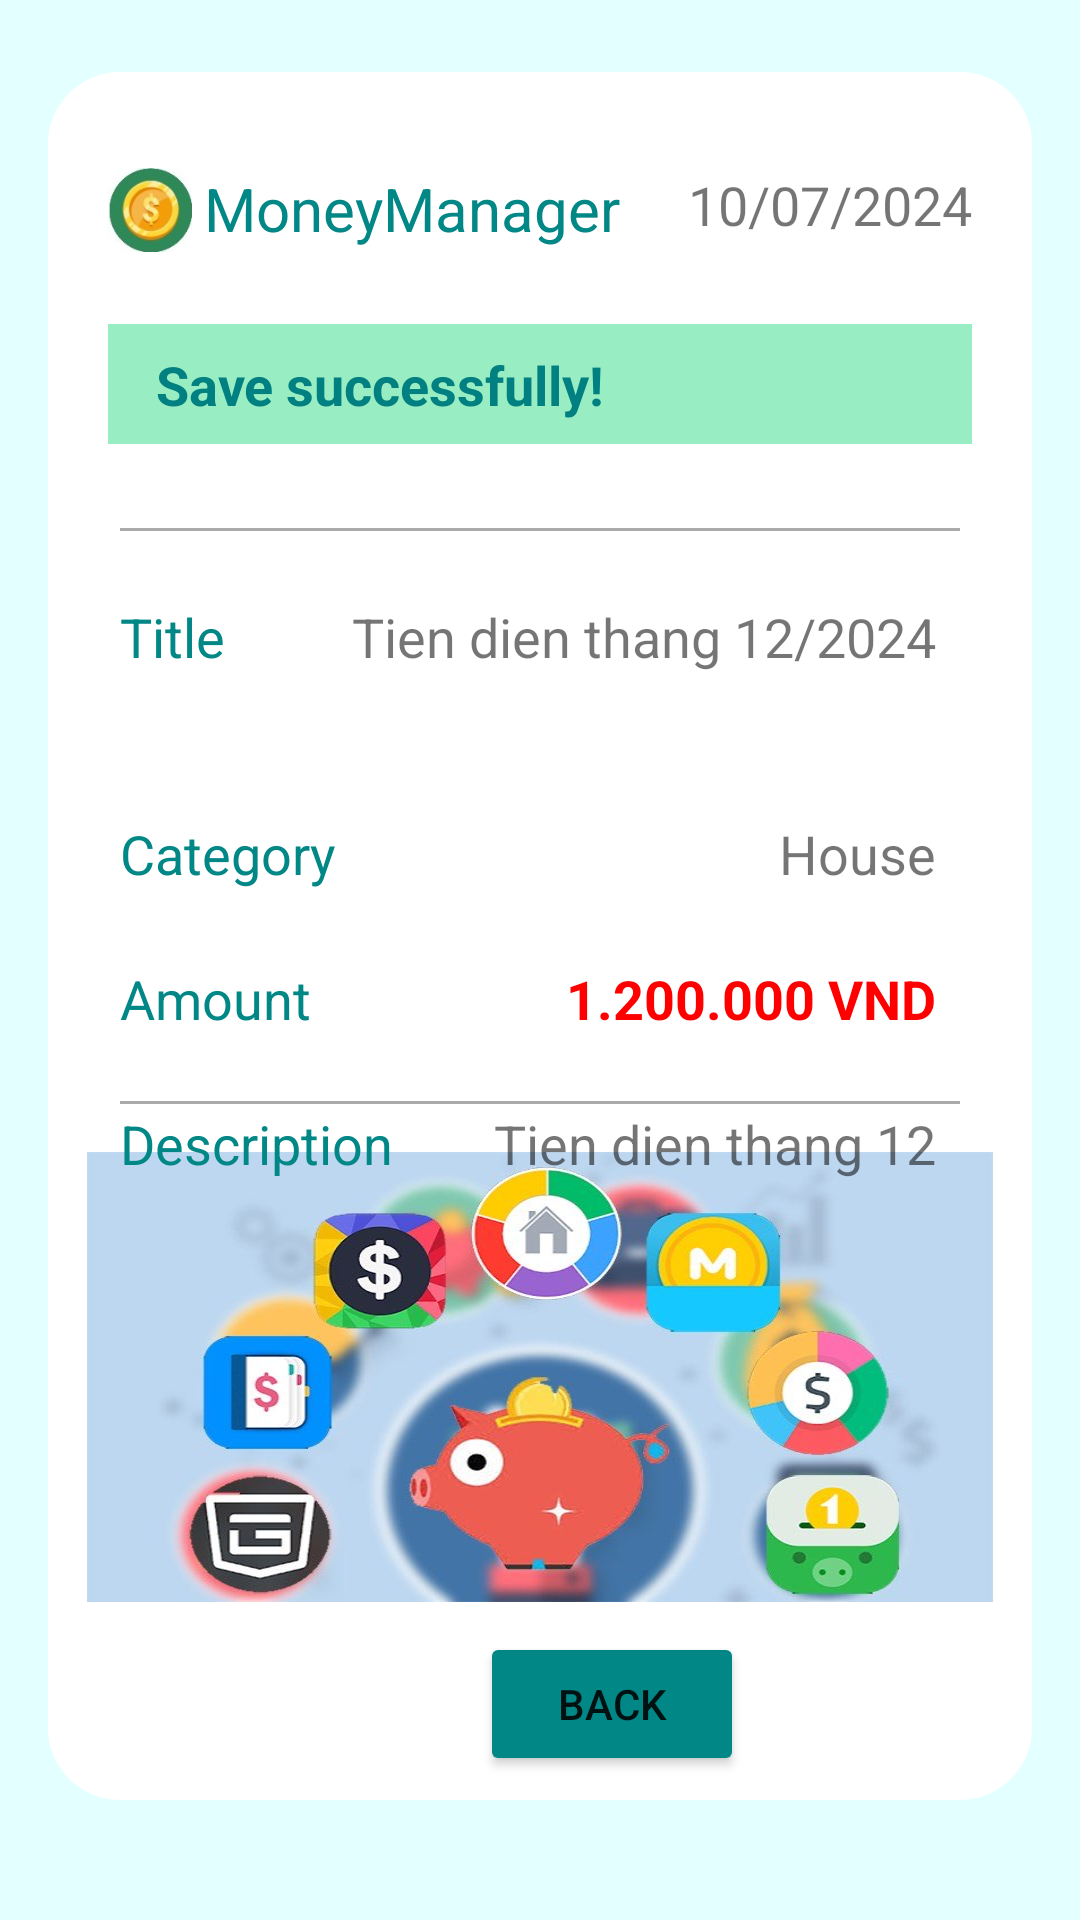

Screen size 1080w x 1920h. Icon name, then its center in pixels as [x,y]:
coin: [150,210]
